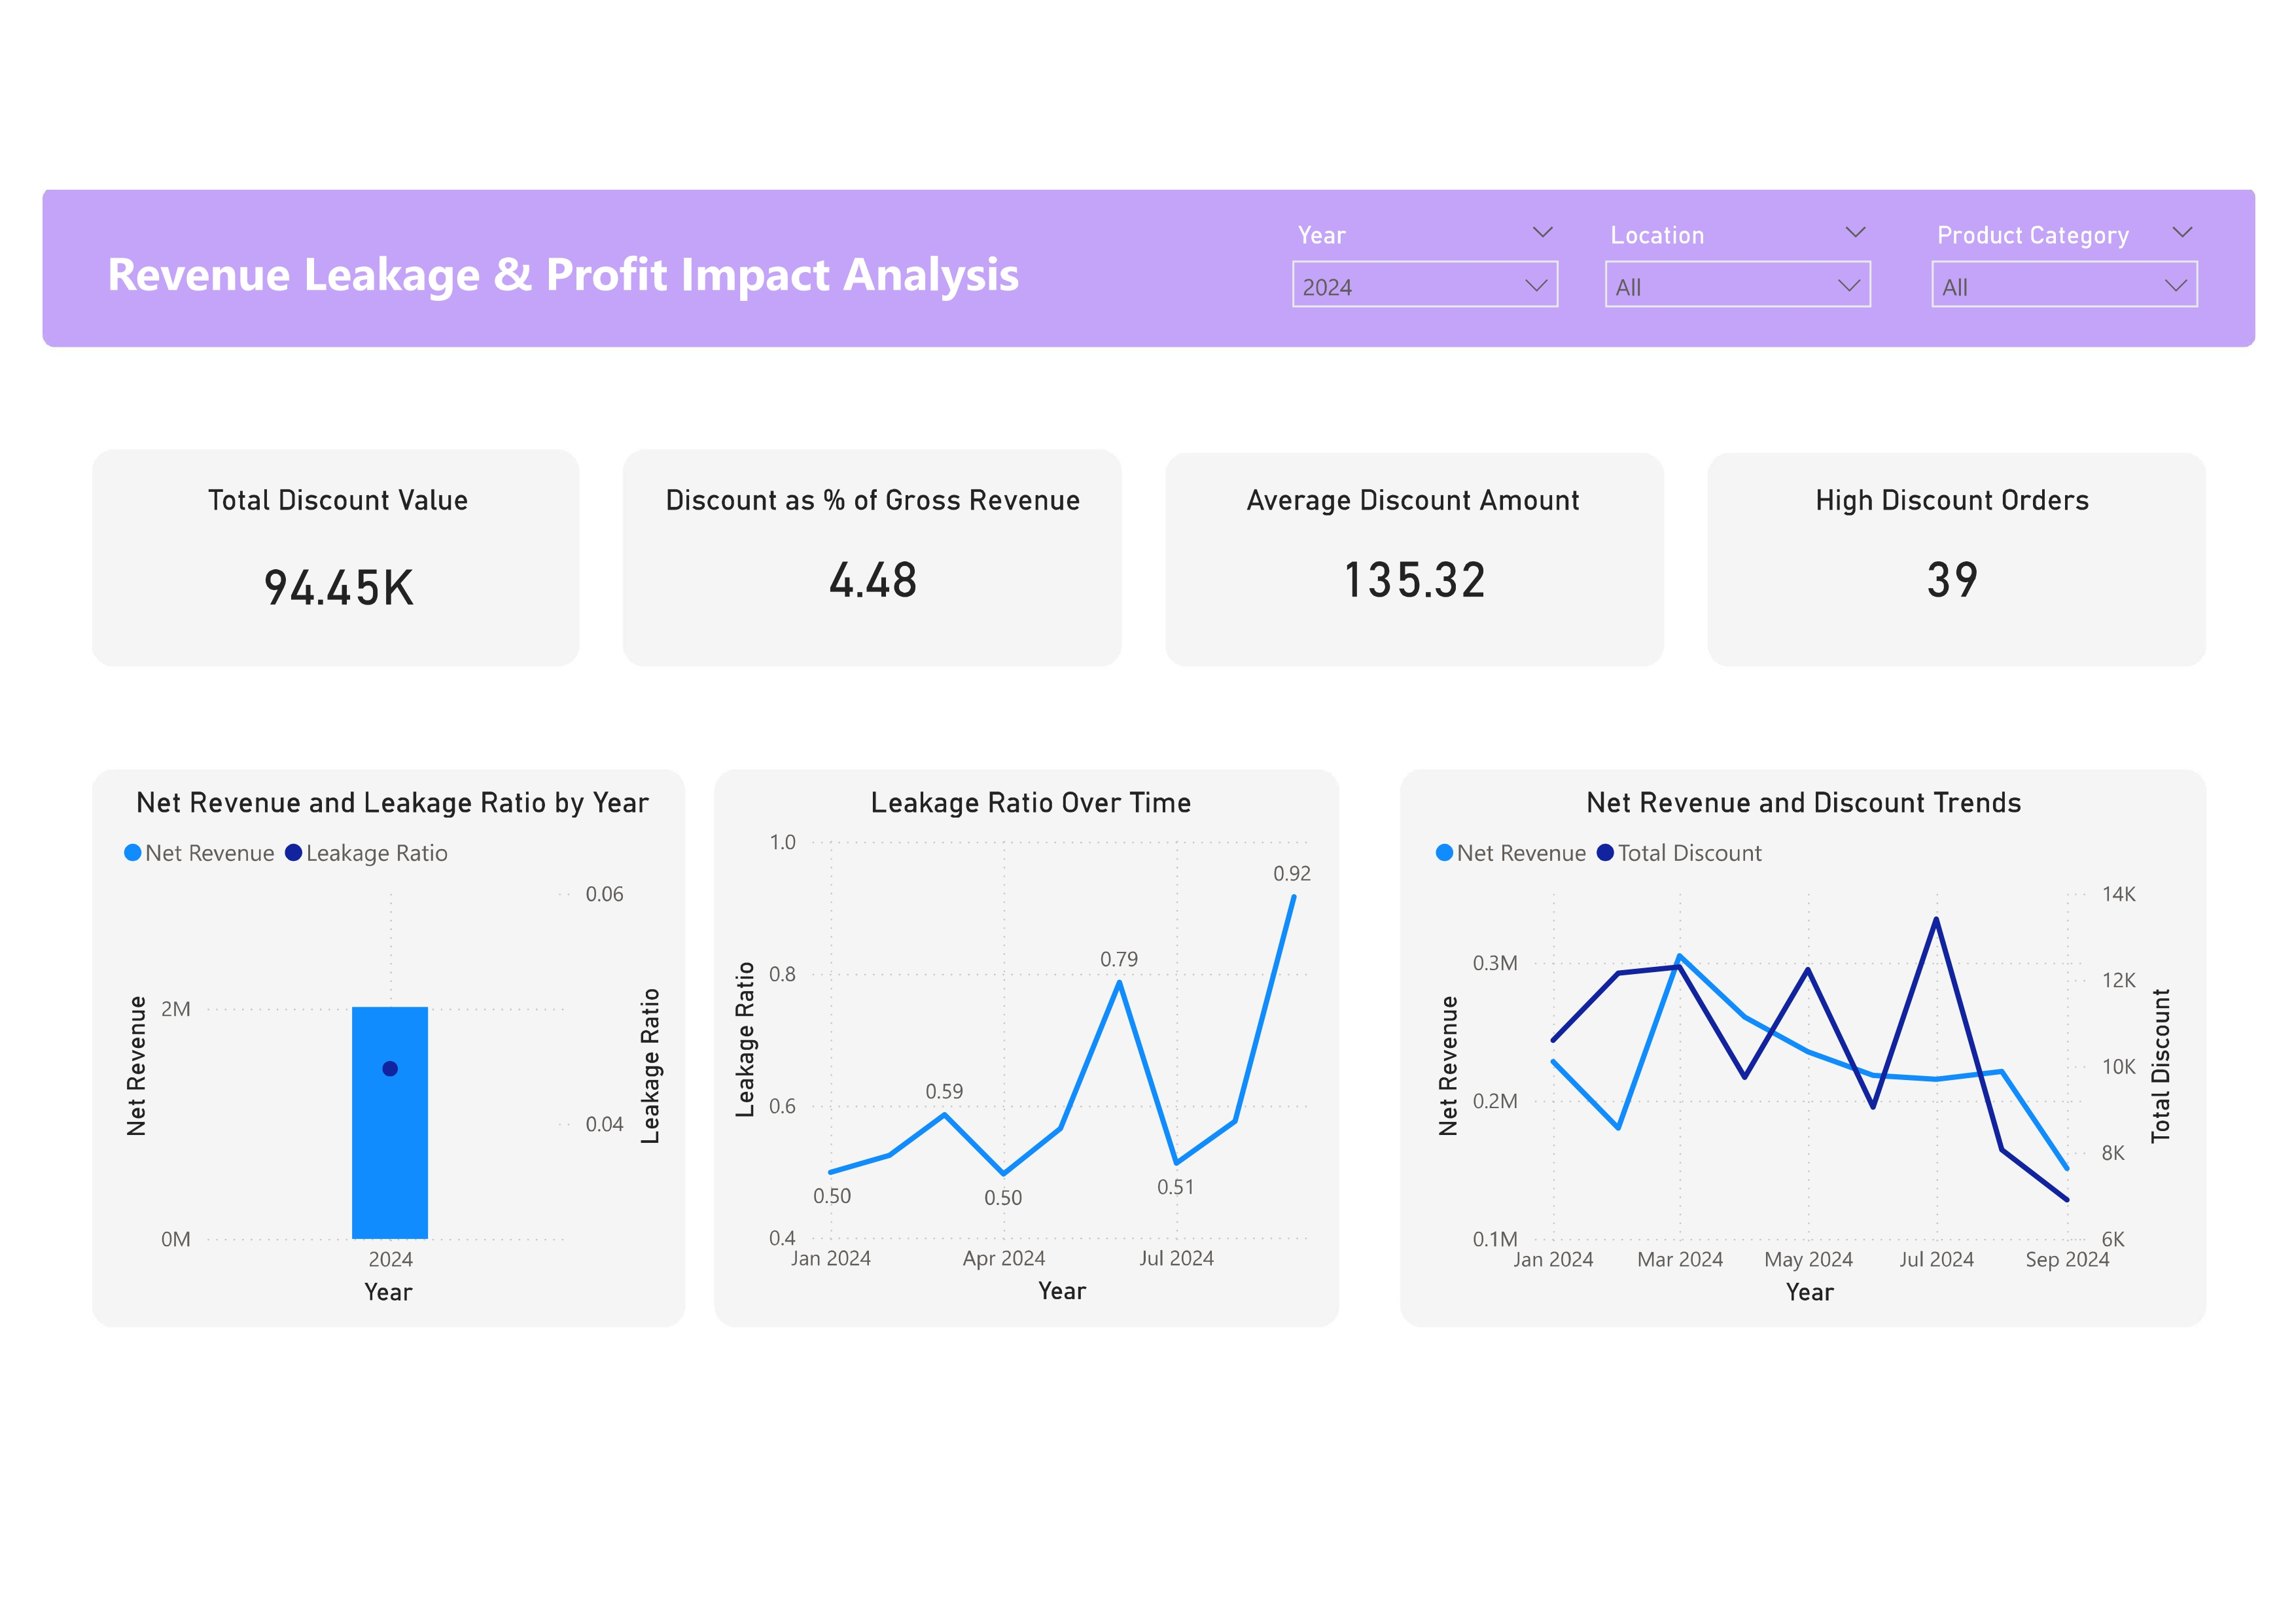

This screenshot's page, from the dashboard's own definition file:
{"tool":"powerbi","page":{"name":"Revenue Leakage & Profit Impact Analysis","canvas":[1280,720],"ordinal":4},"visuals":[{"type":"textbox","box":[21.2,23.8,560,61.2],"z":0},{"type":"slicer","fields":{"Values":["Ecommerce_sales.Month_Year.Variation.Date Hierarchy.Year","Ecommerce_sales.Month_Year.Variation.Date Hierarchy.Quarter","Ecommerce_sales.Month_Year.Variation.Date Hierarchy.Month"]},"box":[713.1,13.1,173.8,72.6],"z":1000},{"type":"slicer","fields":{"Values":["Ecommerce_sales.Location"]},"box":[894.1,13.1,173.8,72.6],"z":2000},{"type":"slicer","fields":{"Values":["Ecommerce_sales.Product_category"]},"box":[1083.3,13.1,173.8,72.6],"z":3000},{"type":"card","title":"Discount as % of Gross Revenue","fields":{"Values":["Ecommerce_sales.Total discount % of total gross revenue"]},"box":[337.5,168.8,285,90],"z":5000},{"type":"card","title":"Total Discount Value","fields":{"Values":["Ecommerce_sales.Total Discount"]},"box":[41.2,168.8,260,98.8],"z":6000},{"type":"card","title":"Average Discount Amount","fields":{"Values":["Avg(Ecommerce_sales.Discount_amount_INR)"]},"box":[651.2,168.8,283.8,90],"z":7000},{"type":"card","title":"High Discount Orders","fields":{"Values":["Ecommerce_sales.High discount orders"]},"box":[993.8,168.8,222.5,90],"z":8000},{"type":"lineStackedColumnComboChart","title":"Net Revenue and Leakage Ratio by Year","fields":{"Category":["Ecommerce_sales.Month_Year.Variation.Date Hierarchy.Year","Ecommerce_sales.Month_Year.Variation.Date Hierarchy.Quarter","Ecommerce_sales.Month_Year.Variation.Date Hierarchy.Month","Ecommerce_sales.Month_Year.Variation.Date Hierarchy.Day"],"Y":["Ecommerce_sales.Total revenue"],"Y2":["Ecommerce_sales.Leakage Ratio"]},"box":[41.2,343.8,322.5,306.2],"z":9000},{"type":"lineChart","title":"Leakage Ratio Over Time","fields":{"Y":["Ecommerce_sales.Leakage Ratio"],"Category":["Ecommerce_sales.Month_Year.Variation.Date Hierarchy.Year","Ecommerce_sales.Month_Year.Variation.Date Hierarchy.Month"]},"box":[392.5,343.8,358.8,306.2],"z":10000},{"type":"lineChart","title":"Net Revenue and Discount Trends","fields":{"Category":["Ecommerce_sales.Month_Year.Variation.Date Hierarchy.Year","Ecommerce_sales.Month_Year.Variation.Date Hierarchy.Month"],"Y2":["Ecommerce_sales.Total Discount"],"Y":["Ecommerce_sales.Net Revenue"]},"box":[800,343.8,437.5,306.2],"z":11000}]}

Visuals, with their boxes on the page's 1280x720 design canvas (x1, y1, x2, y2). These are canvas units, not pixel positions in the 2296x1623 screenshot, which may show the page scaled, cropped or inside an application window:
textbox: 21,24,581,85
slicer - Ecommerce_sales.Month_Year.Variation.Date Hierarchy.Year x Ecommerce_sales.Month_Year.Variation.Date Hierarchy.Quarter: 713,13,887,86
slicer - Ecommerce_sales.Location: 894,13,1068,86
slicer - Ecommerce_sales.Product_category: 1083,13,1257,86
"Discount as % of Gross Revenue" card: 338,169,622,259
"Total Discount Value" card: 41,169,301,268
"Average Discount Amount" card: 651,169,935,259
"High Discount Orders" card: 994,169,1216,259
"Net Revenue and Leakage Ratio by Year" lineStackedColumnComboChart: 41,344,364,650
"Leakage Ratio Over Time" lineChart: 392,344,751,650
"Net Revenue and Discount Trends" lineChart: 800,344,1238,650
